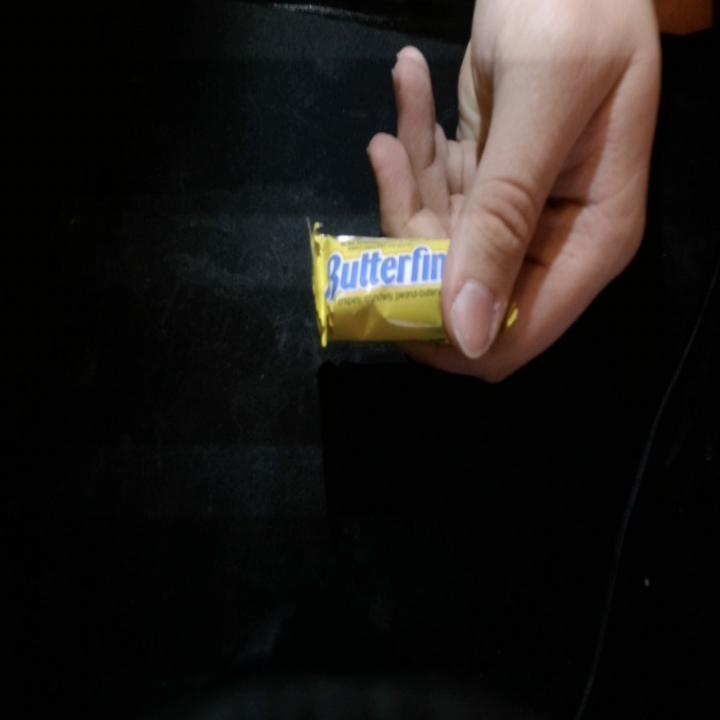Butter Finger: (301, 217, 521, 346)
